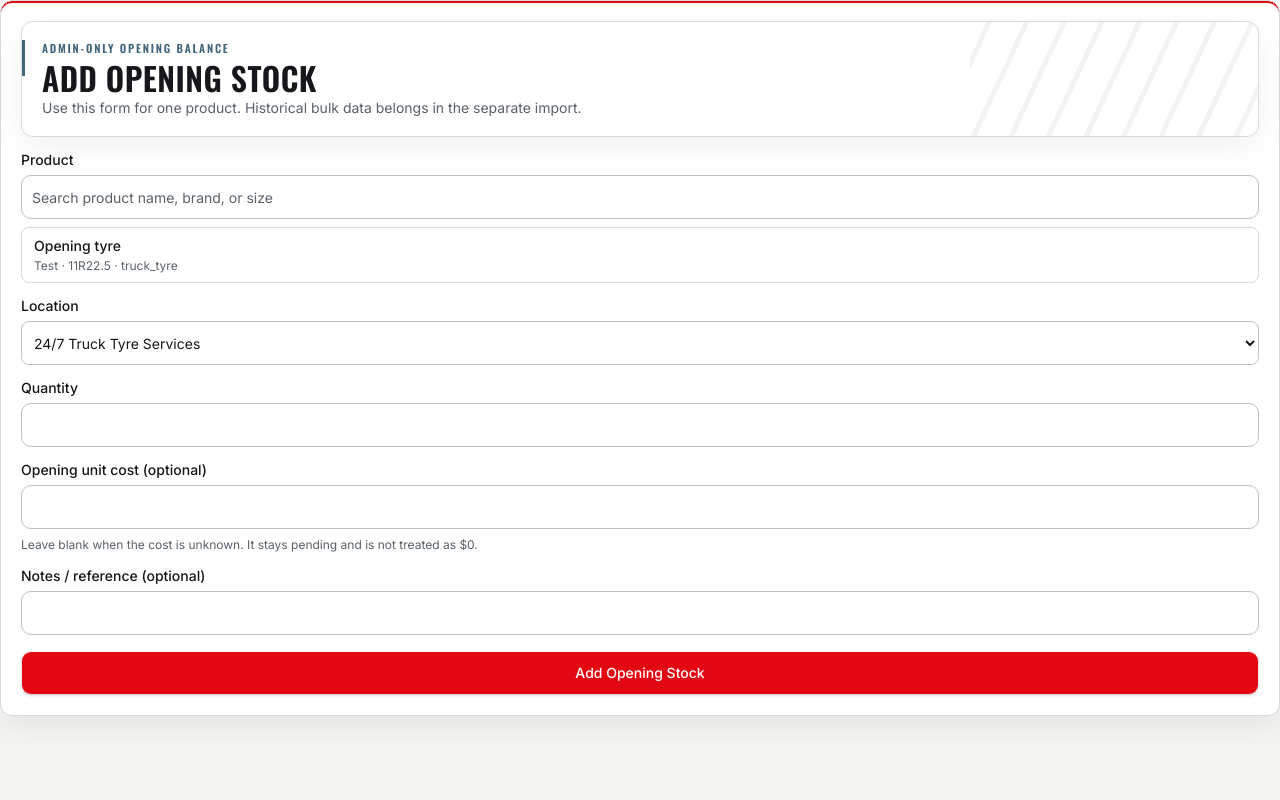
it: OpeningStockForm › posts one selected product through the dedicated manual action and keeps a stable retry id
This screenshot has width=1280, height=800.
Click the option "Opening tyre Test · 11R22.5 · truck_tyre" at [77, 246], box x1=22 y1=228 x2=1258 y2=282
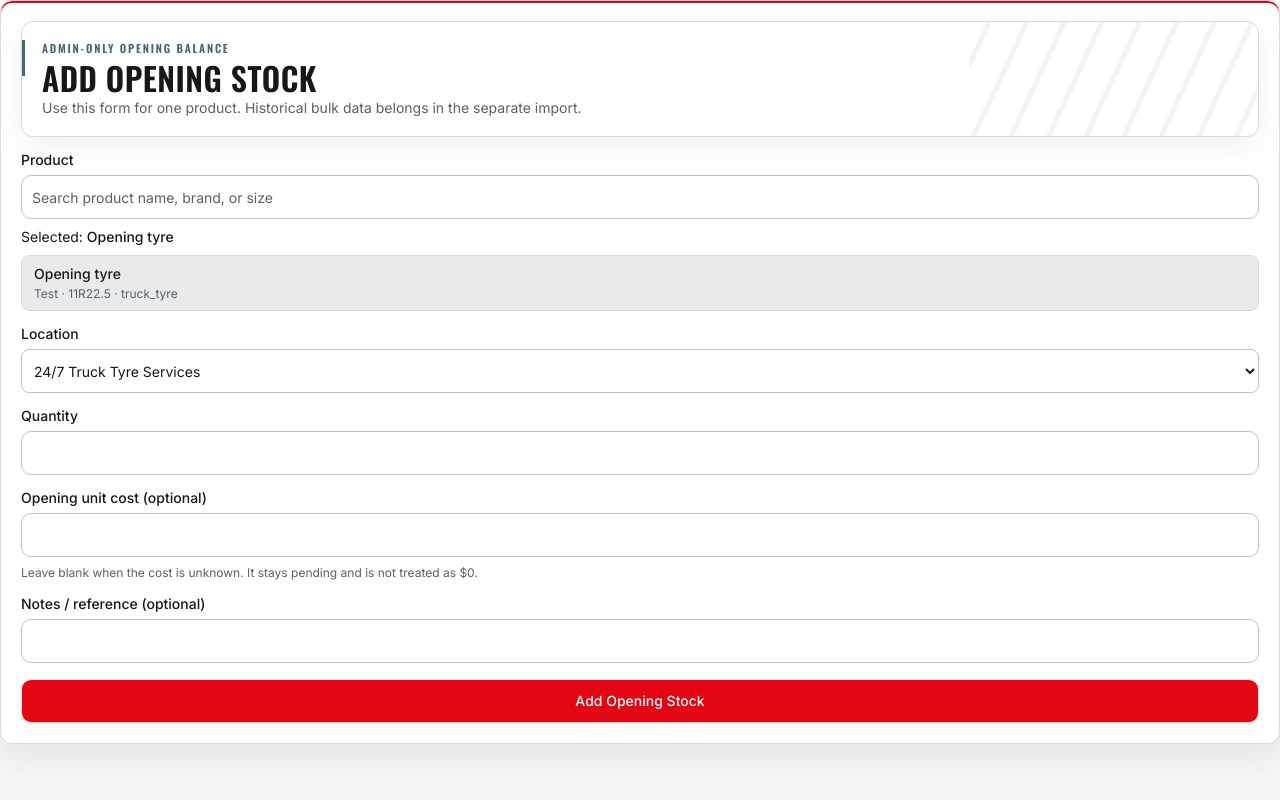
Type "3" into the number field labelled "Quantity" at [640, 453], box x1=21 y1=431 x2=1259 y2=475
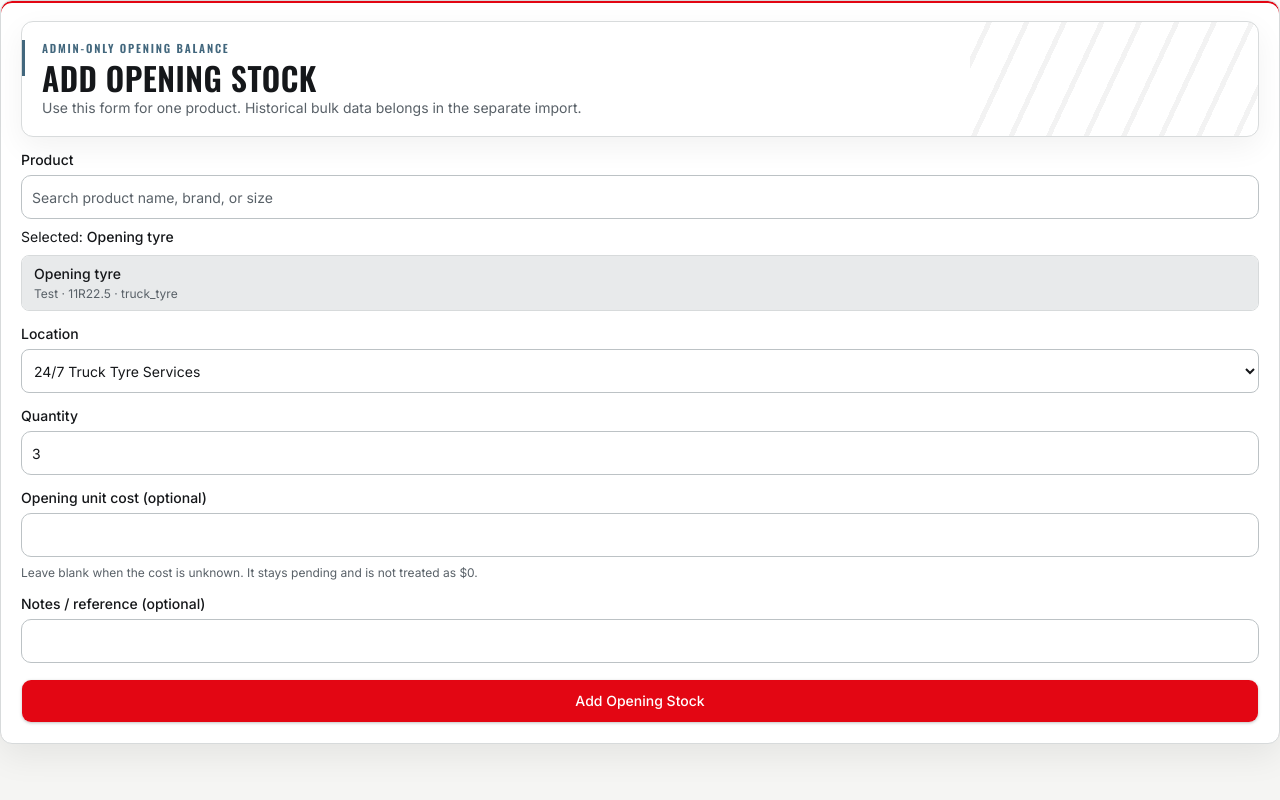
Type "120.50" into the number field labelled "Opening unit cost (optional)" at [640, 535], box x1=21 y1=513 x2=1259 y2=557
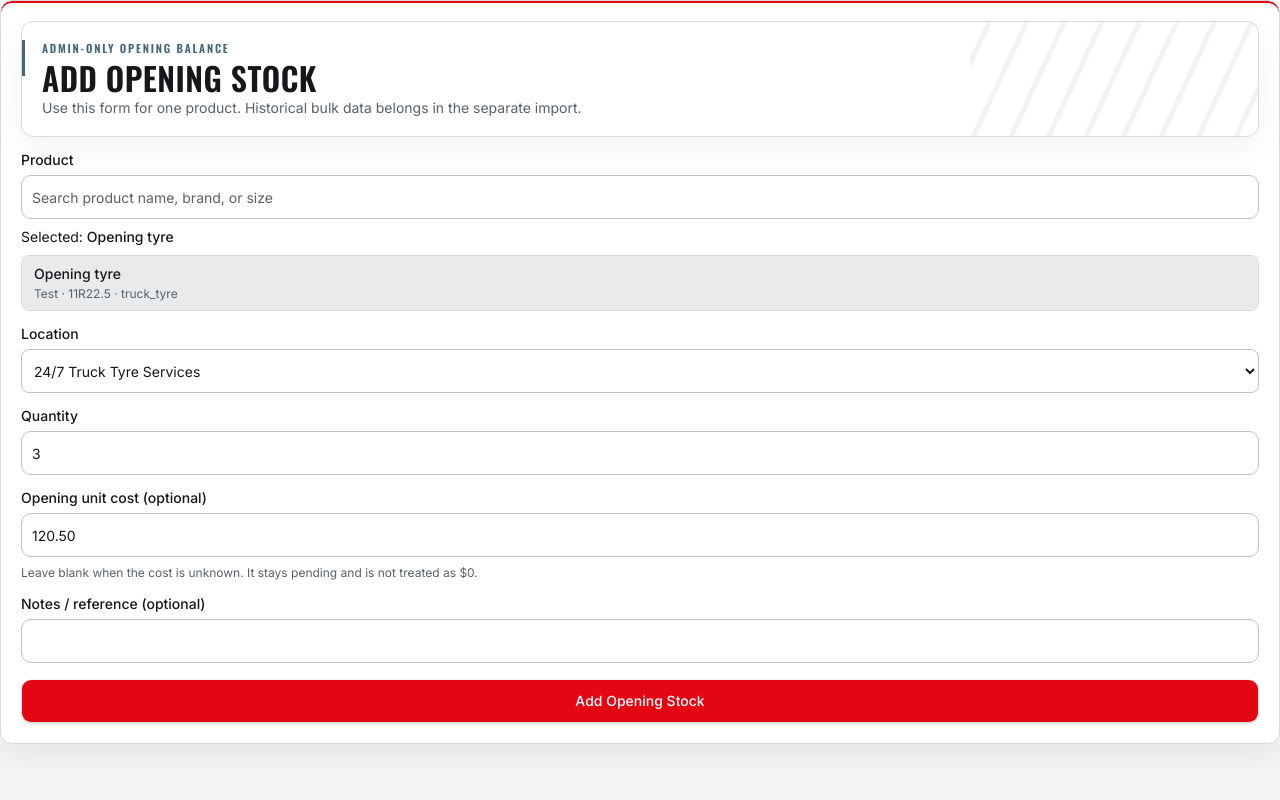
Type "count sheet" into the field labelled "Notes / reference (optional)" at [640, 641], box x1=21 y1=619 x2=1259 y2=663
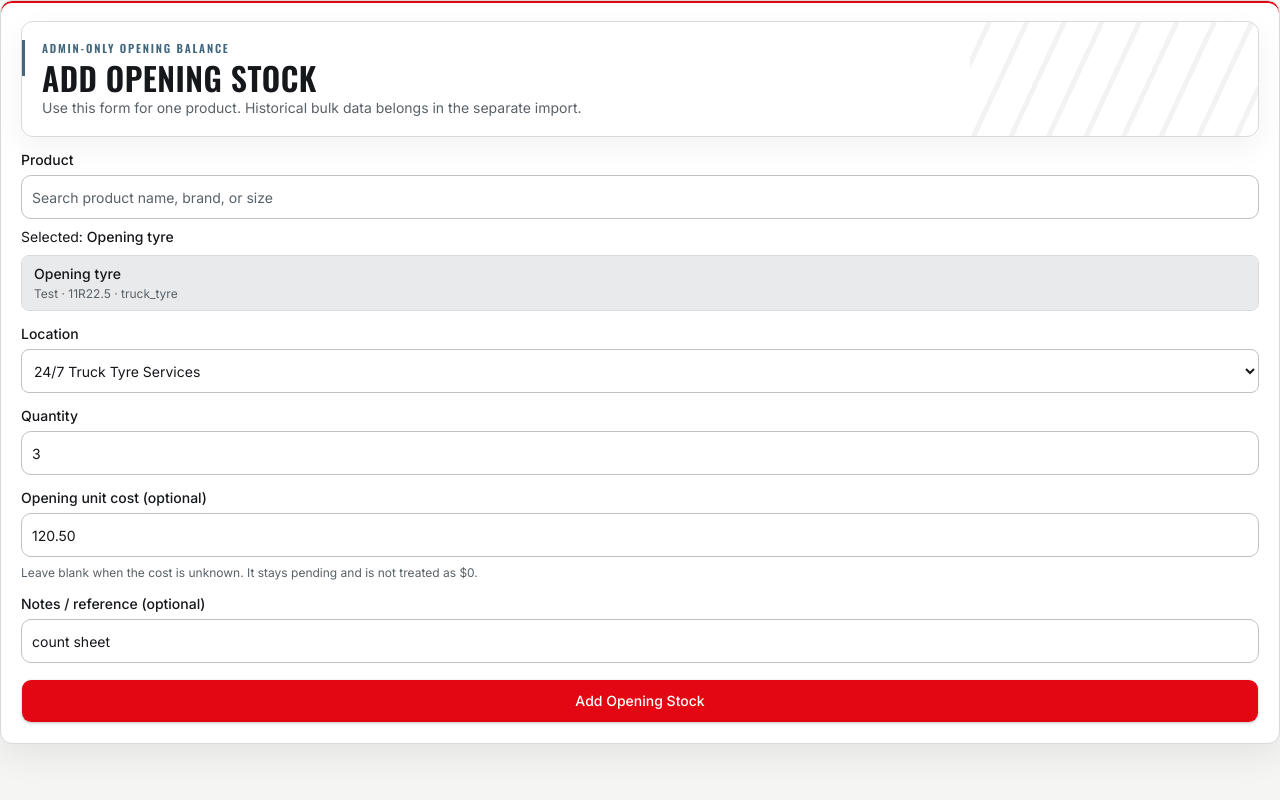
Submit the form
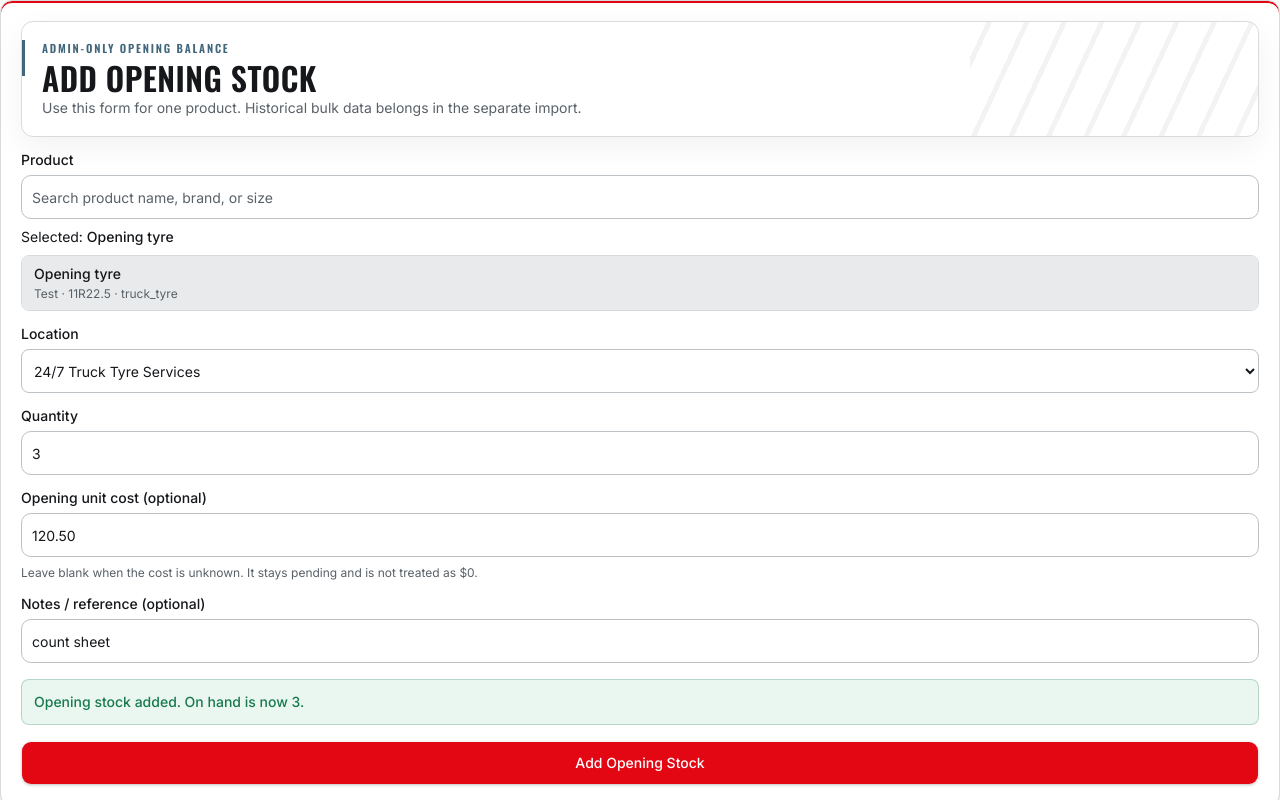
Now the text "Opening stock added. On hand is now 3." is shown, box x1=21 y1=679 x2=1259 y2=725
